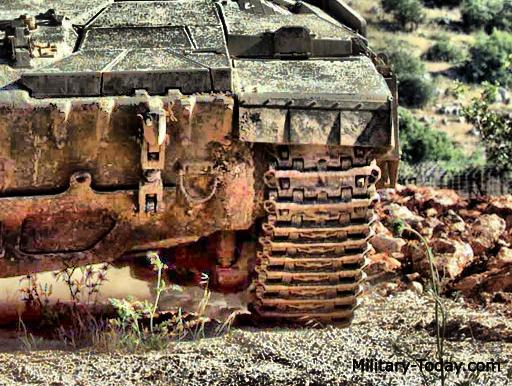tanks: (1, 1, 399, 323)
